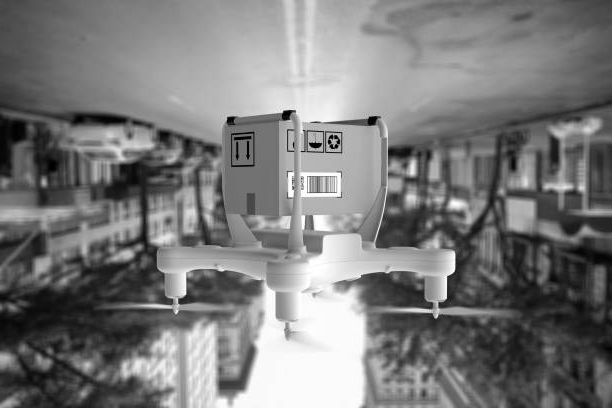Drone: (81, 231, 525, 357)
